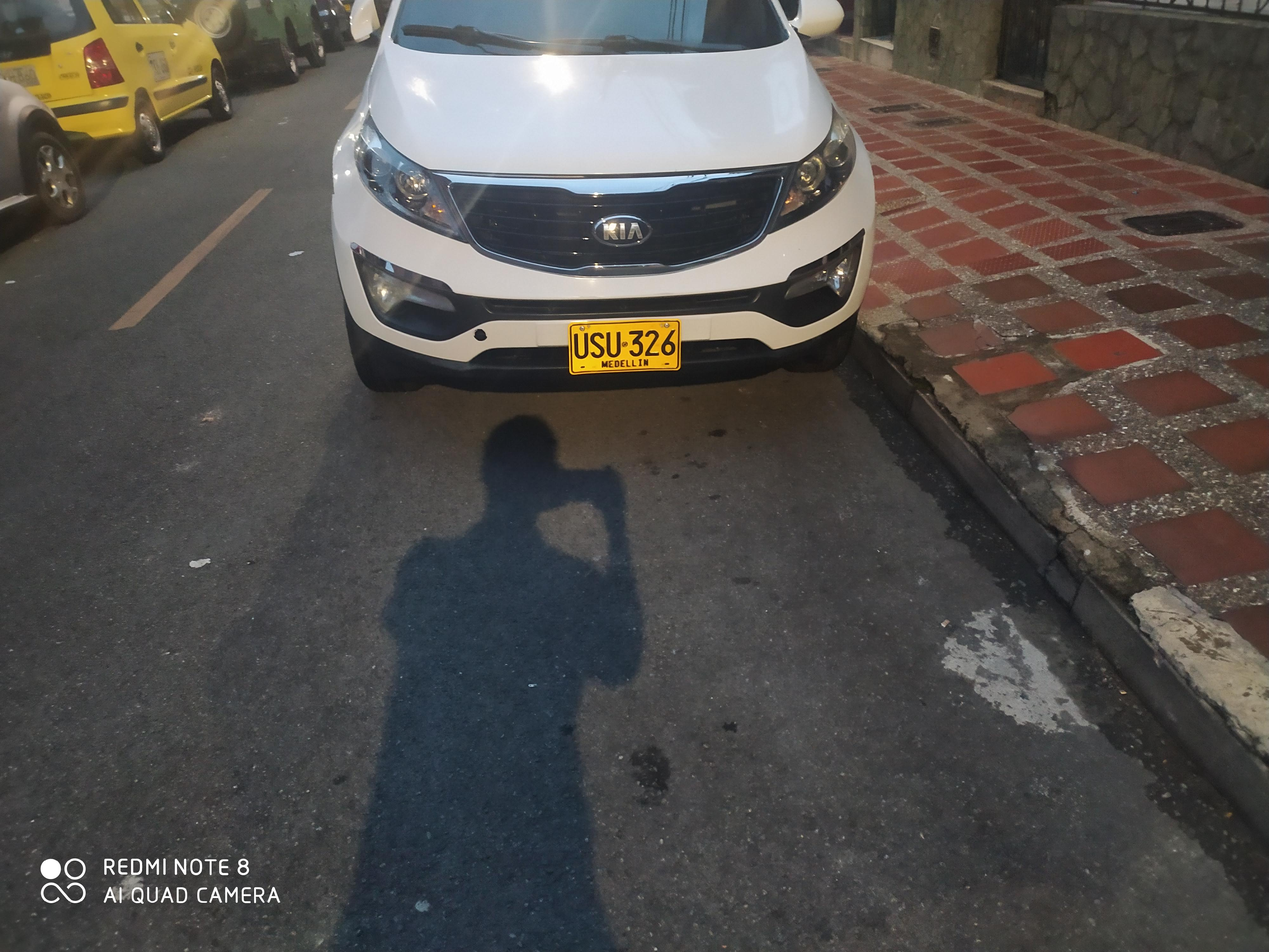placa: (559, 313, 688, 379)
